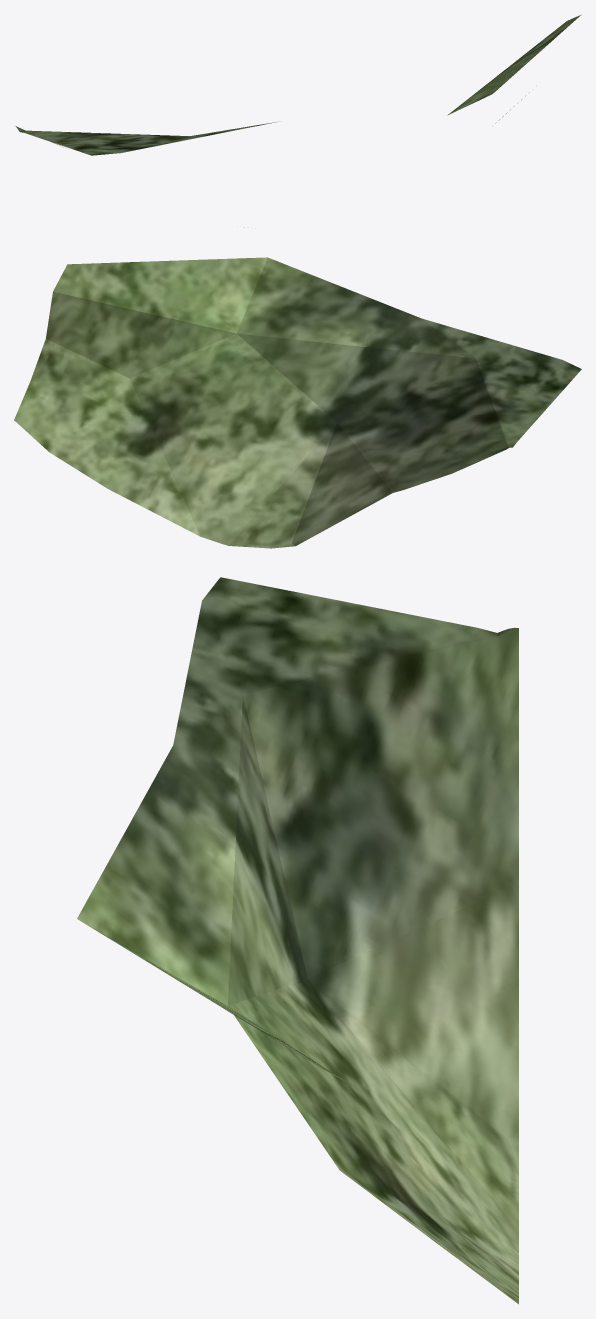
The picture shows the model from 3 angles, top to bottom: view 1: azimuth 30°, elevation 25°; view 2: azimuth 150°, elevation 25°; view 3: azimuth 270°, elevation 25°; orthographic projection. The views are drawn at different scales.
Size of the model in its own units: 2.95 by 1.09 by 1.14.
Materials: 1 (1 with a texture image).
